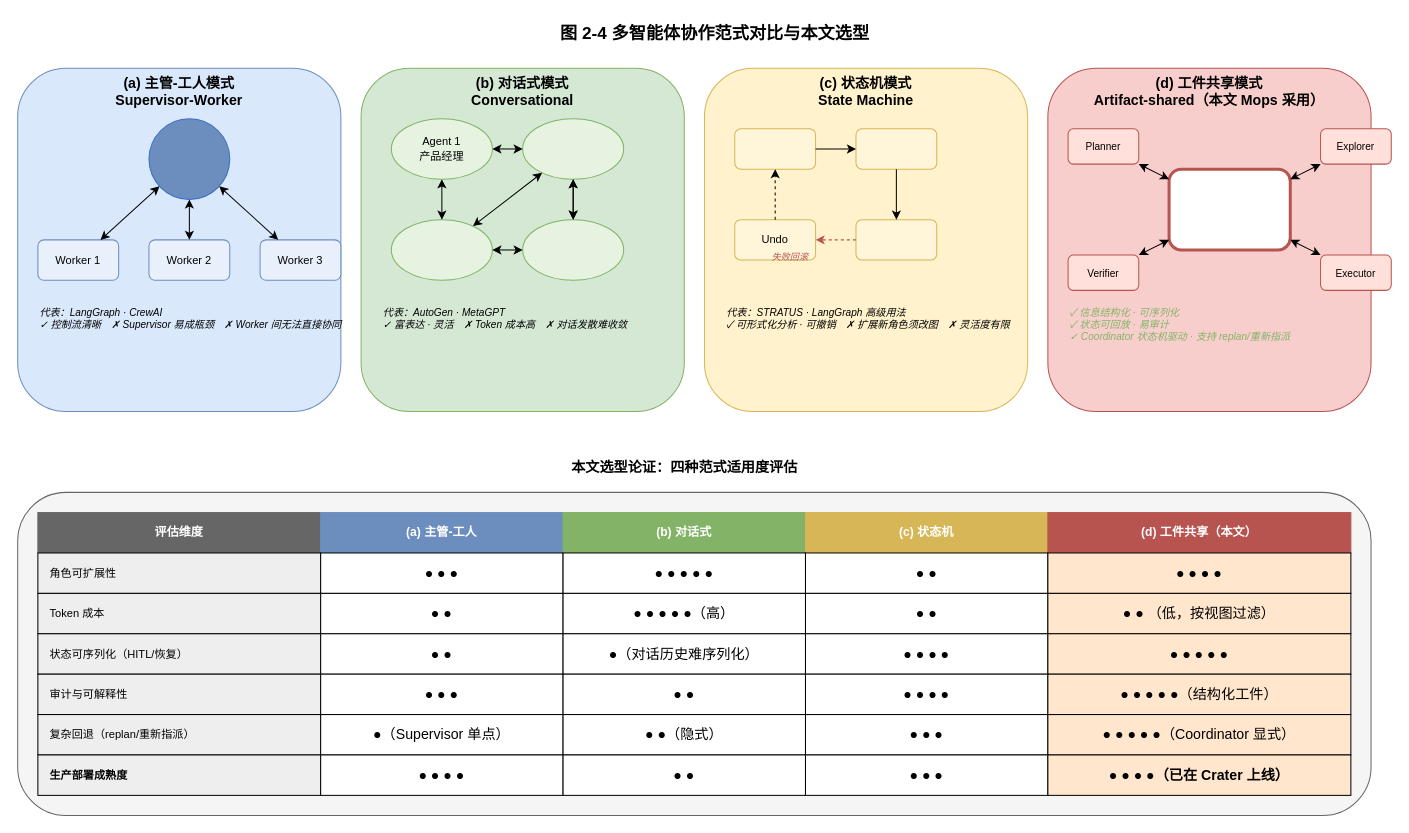
Some shapes in this 1409 by 833 pixel diagram are drawn without their labels. Here are the shapes that lost their labels. From the top down, the centre of each, then its label:
At (x=189, y=158): "Supervisor 主管".
At (x=573, y=148): "Agent 2 架构师".
At (x=775, y=148): "Detect".
At (x=896, y=148): "Diagnose".
At (x=1229, y=209): "MASState 共享工件 Goal/Plan/Obs/Exec".
At (x=441, y=249): "Agent 3 工程师".
At (x=573, y=249): "Agent 4 测试员".
At (x=896, y=239): "Mitigate".
